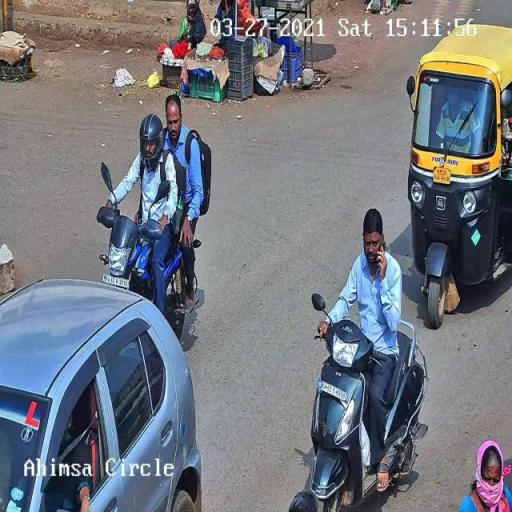using mobile: (369, 232, 391, 270)
